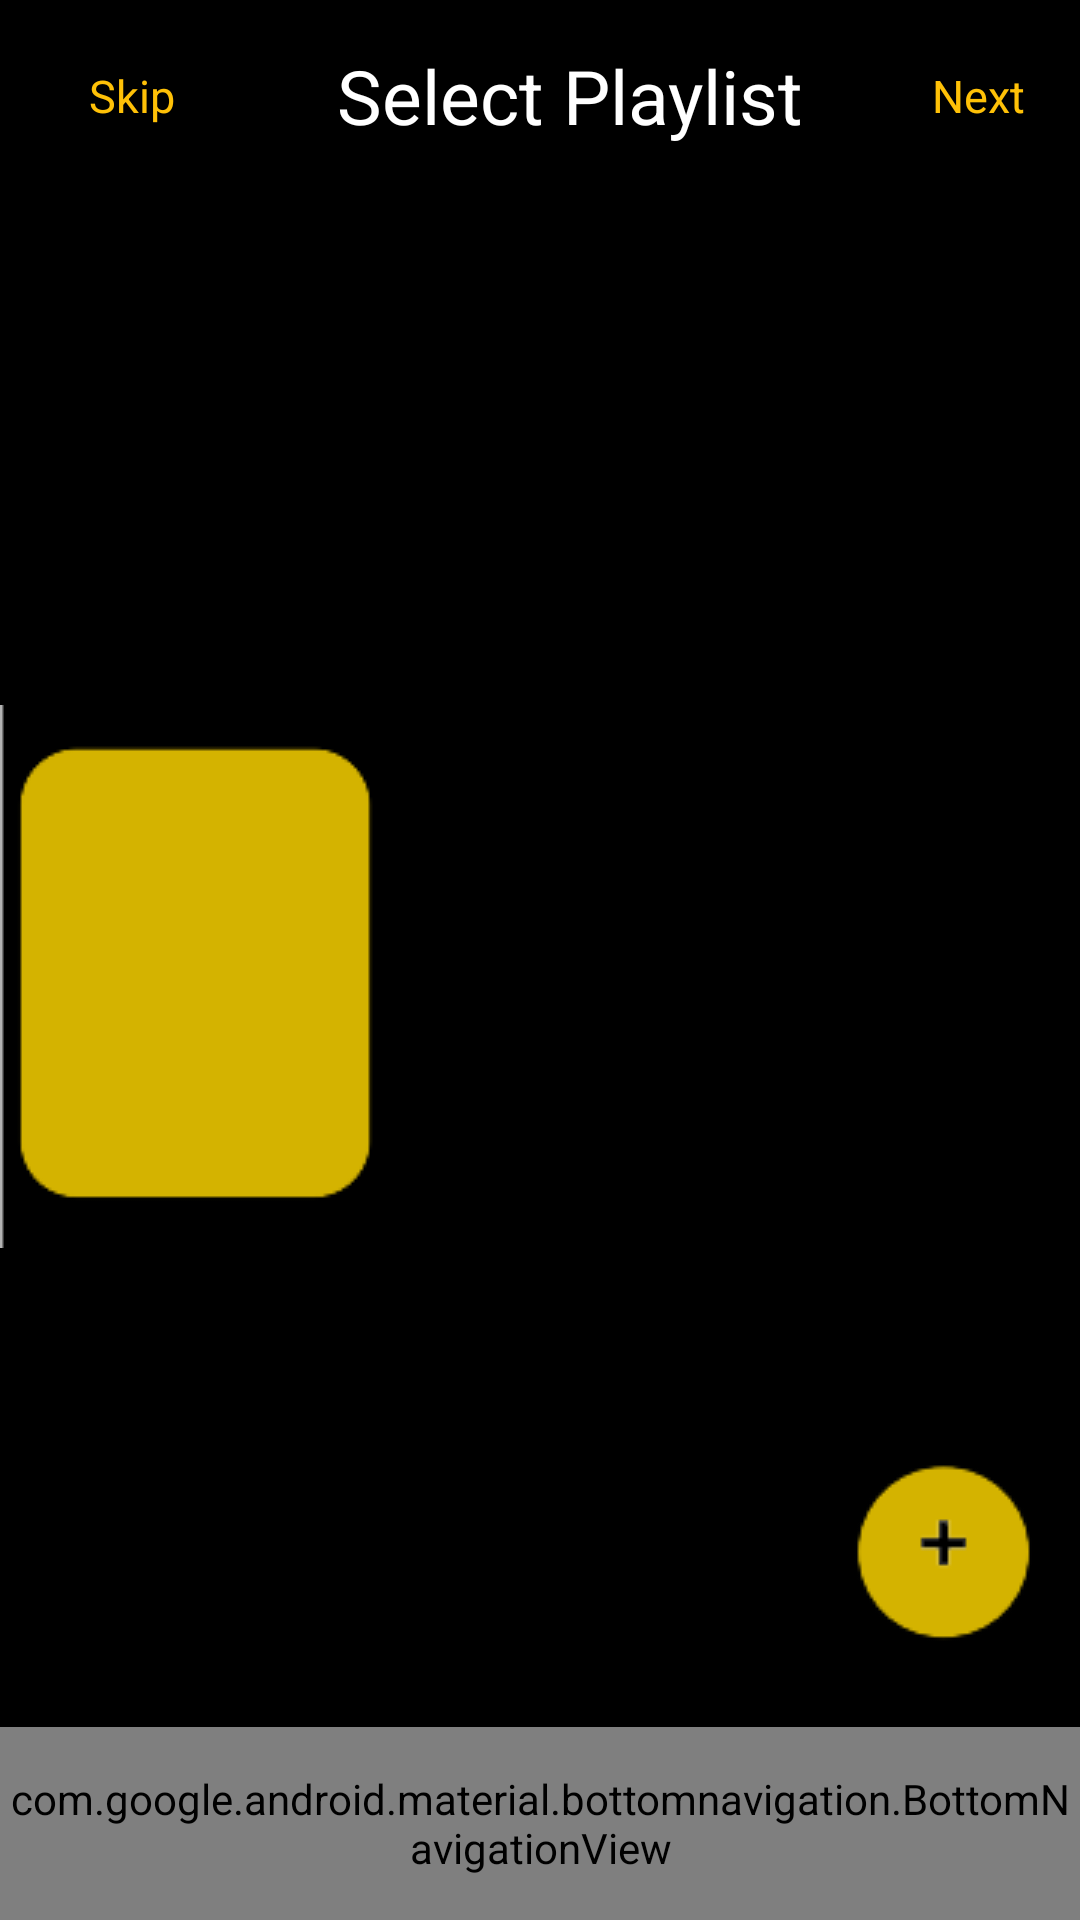

Icons on this 1080px x 1920px Android screen, each with its box as (x1, y1, x2, y2):
plus: (857, 1465, 1030, 1638)
